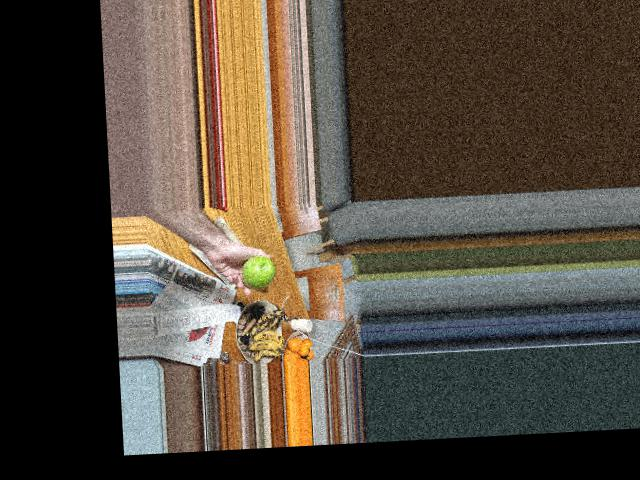apple: (240, 254, 278, 289)
